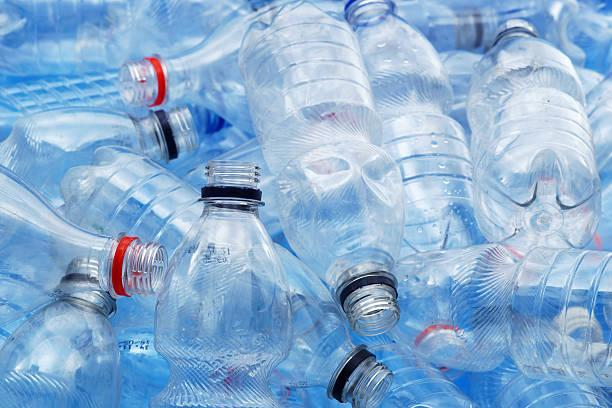plastic: (468, 19, 599, 247), (0, 111, 197, 250), (239, 0, 380, 172), (327, 259, 469, 407), (120, 16, 249, 158), (0, 257, 117, 407), (278, 140, 401, 273), (398, 244, 518, 370), (511, 247, 611, 390), (383, 105, 480, 251)
